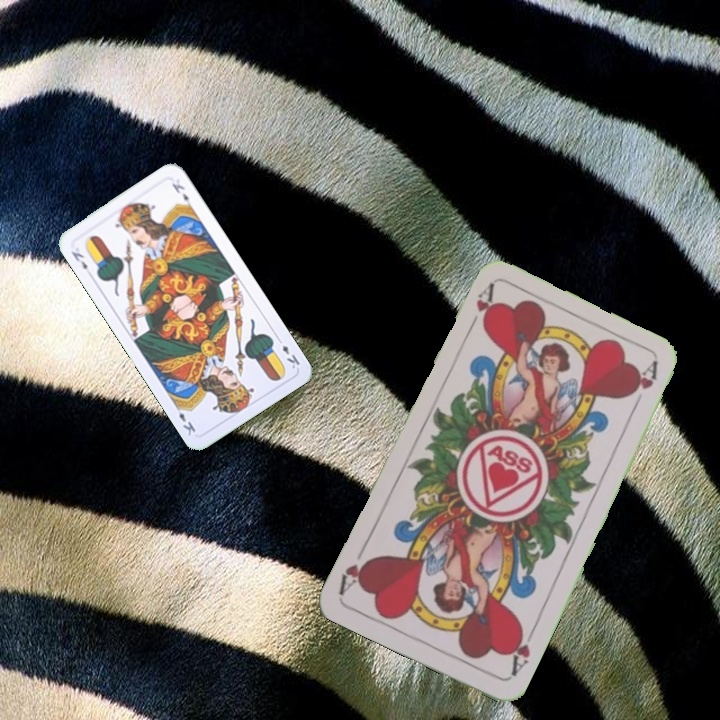EK: (273, 333, 302, 371), (67, 247, 90, 272)
HA: (504, 621, 538, 679), (463, 281, 498, 336)
